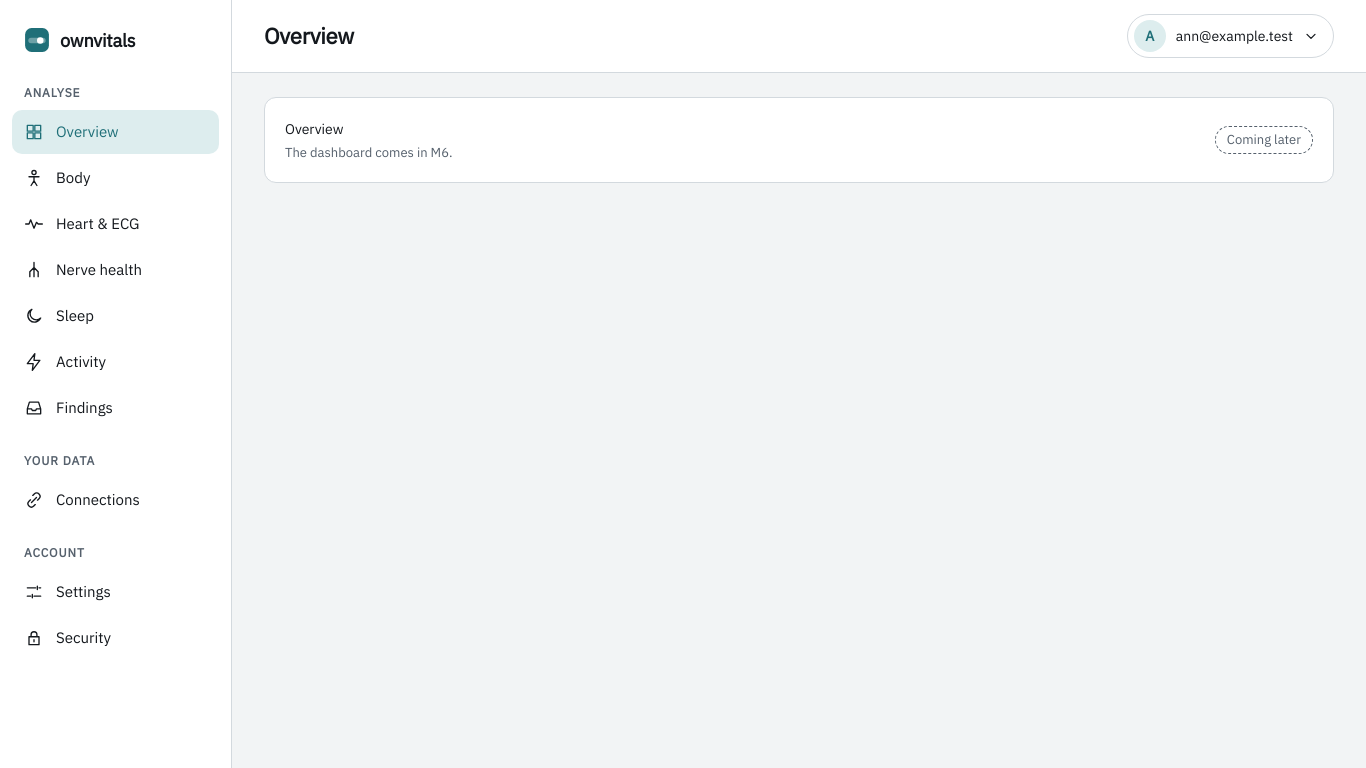
Test: the page frame › shows who is signed in, with Sign out in the account menu
Click the button "A ann@example.test": (1230, 36) [1127,14,1334,58]
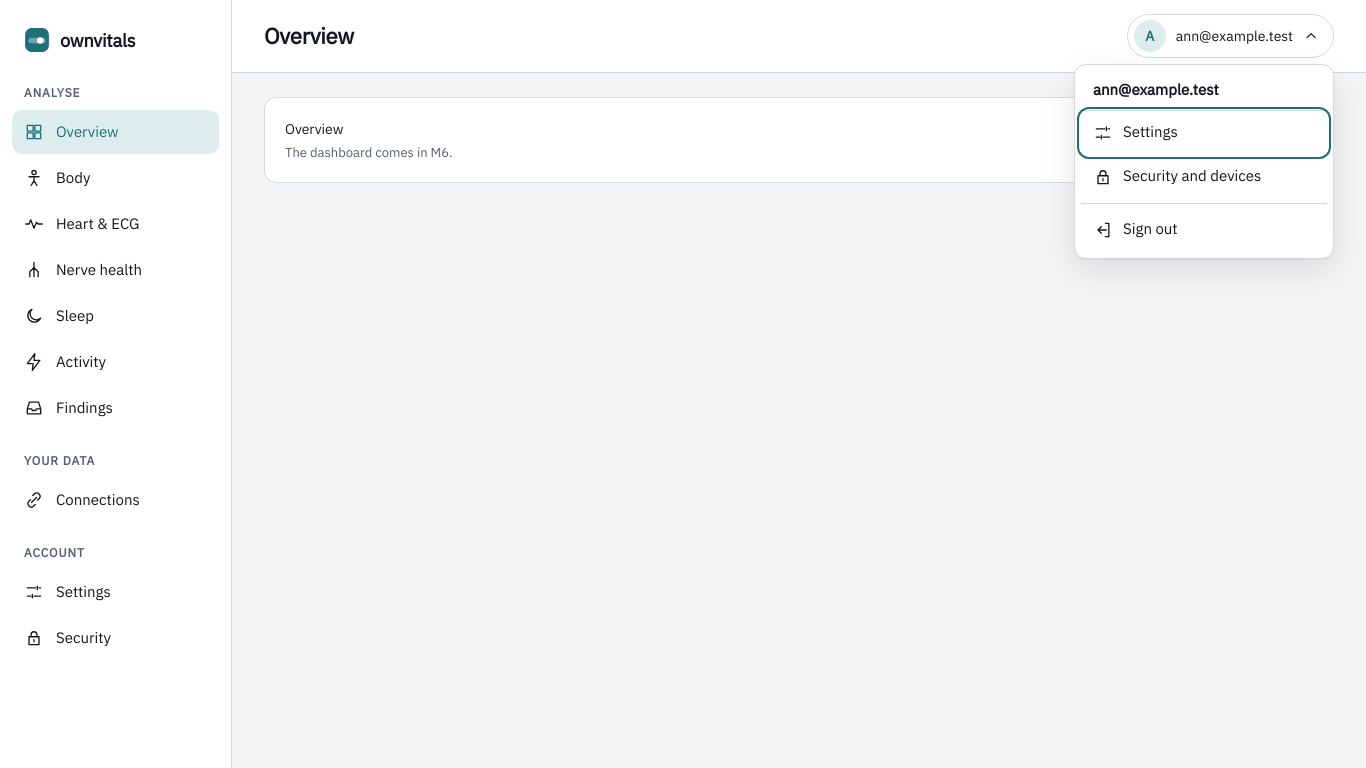
Expected: the menu item "Sign out" is shown, [1081,208,1327,252]
